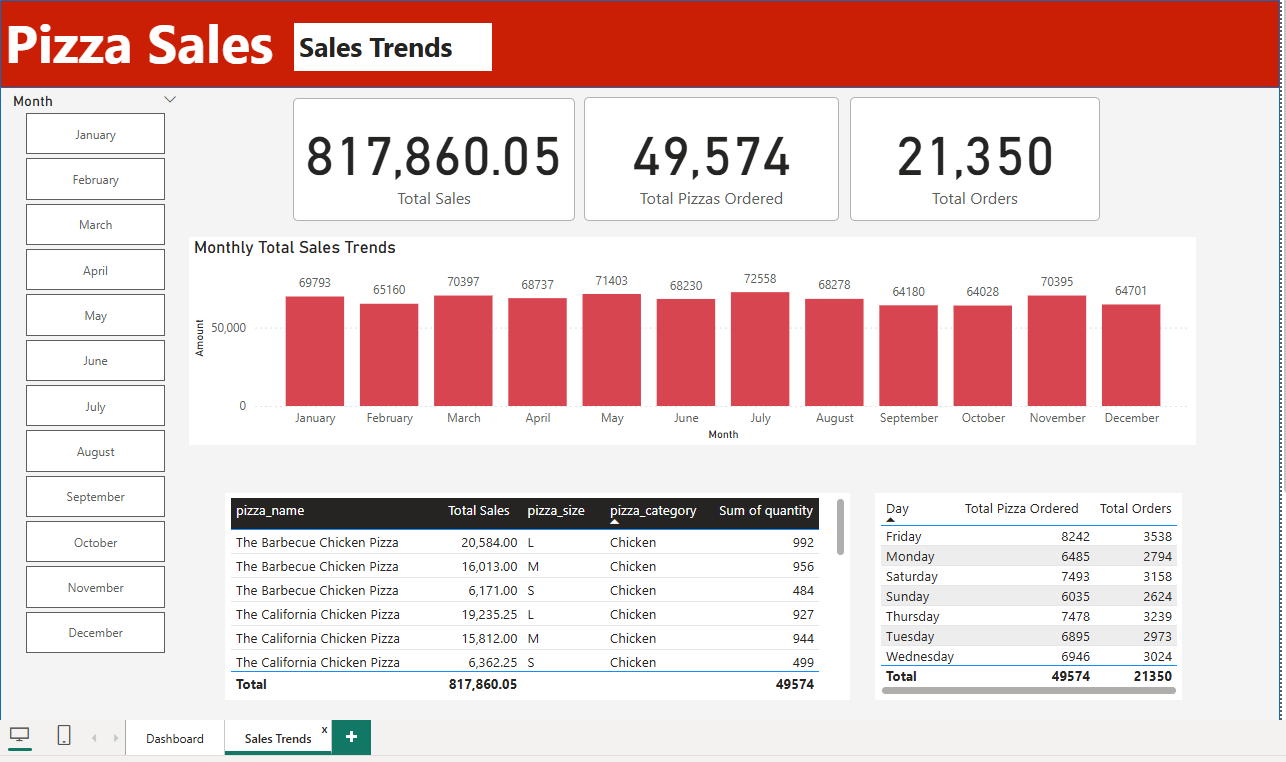

The dashboard page shown, as its layout file describes it:
{"tool":"powerbi","page":{"name":"Sales Trends","canvas":[1280,1050],"ordinal":1},"visuals":[{"type":"shape","box":[0,0,1280,1049.4],"z":0},{"type":"shape","box":[0,0,1280,87.9],"z":1000},{"type":"textbox","box":[293.8,23.4,198.1,47.9],"z":2000},{"type":"textbox","box":[0,0,299.4,83.5],"z":3000},{"type":"card","fields":{"Values":["Sum(pizza_sales.total_price)"]},"box":[293.5,98.2,281.9,122.7],"z":4000,"group":"g1"},{"type":"card","fields":{"Values":["pizza_sales.count_sales"]},"box":[850.4,97.3,250.4,123.5],"z":5000,"group":"g1"},{"type":"card","fields":{"Values":["Sum(pizza_sales.quantity)"]},"box":[584.8,96.9,254.9,124.1],"z":6000,"group":"g1"},{"type":"slicer","fields":{"Values":["pizza_sales.order_date.Variation.Date Hierarchy.Month"]},"box":[0,87.9,189.2,572.1],"z":7000},{"type":"tableEx","fields":{"Values":["pizza_sales.pizza_name","Sum(pizza_sales.total_price)","pizza_sales.pizza_size","pizza_sales.pizza_category","Sum(pizza_sales.quantity)"]},"box":[225.3,492.6,624.9,207],"z":8000},{"type":"tableEx","fields":{"Values":["pizza_sales.Day","Sum(pizza_sales.quantity)","pizza_sales.Total Orders"]},"box":[875.2,492.6,306.6,207],"z":8001},{"type":"tableEx","fields":{"Values":["pizza_sales.order_date.Variation.Date Hierarchy.Month","Sum(pizza_sales.quantity)","pizza_sales.Total Orders"]},"box":[243.7,725.8,382.6,314.4],"z":8002},{"type":"clusteredColumnChart","title":"Monthly Total Sales Trends","fields":{"Category":["pizza_sales.order_date.Variation.Date Hierarchy.Month"],"Y":["Sum(pizza_sales.total_price)"]},"box":[188.7,237.1,1007.5,208.3],"z":8003},{"type":"group","id":"g1","title":"Group 1","box":[293.5,96.9,807,124.5],"z":8004}]}

Visuals, with their boxes on the page's 1280x1050 design canvas (x1, y1, x2, y2). These are canvas units, not pixel positions in the 1286x762 screenshot, which may show the page scaled, cropped or inside an application window:
shape: [0,0,1280,1049]
shape: [0,0,1280,88]
textbox: [294,23,492,71]
textbox: [0,0,299,84]
card - Sum(pizza_sales.total_price): [294,98,575,221]
card - pizza_sales.count_sales: [850,97,1101,221]
card - Sum(pizza_sales.quantity): [585,97,840,221]
slicer - pizza_sales.order_date.Variation.Date Hierarchy.Month: [0,88,189,660]
tableEx - pizza_sales.pizza_name x Sum(pizza_sales.total_price): [225,493,850,700]
tableEx - pizza_sales.Day x Sum(pizza_sales.quantity): [875,493,1182,700]
tableEx - pizza_sales.order_date.Variation.Date Hierarchy.Month x Sum(pizza_sales.quantity): [244,726,626,1040]
"Monthly Total Sales Trends" clusteredColumnChart: [189,237,1196,445]
"Group 1" group: [294,97,1100,221]
